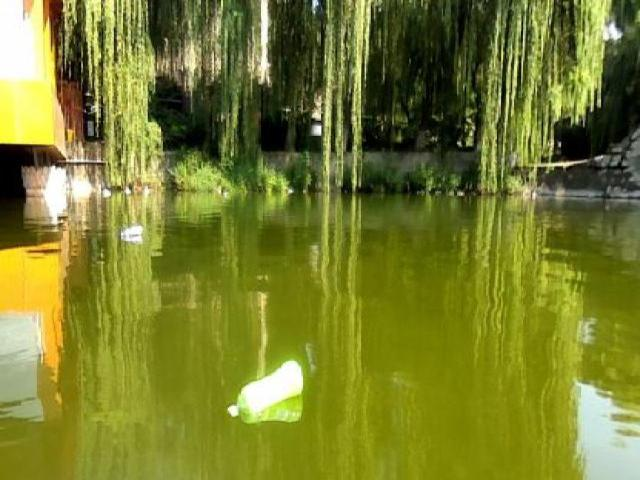Bottle: (221, 354, 313, 431), (115, 221, 150, 245)
